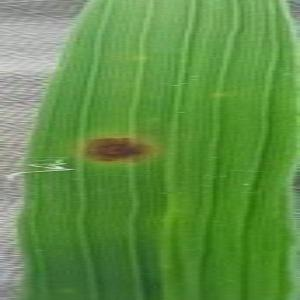Brown_Spot: (63, 121, 162, 175)
